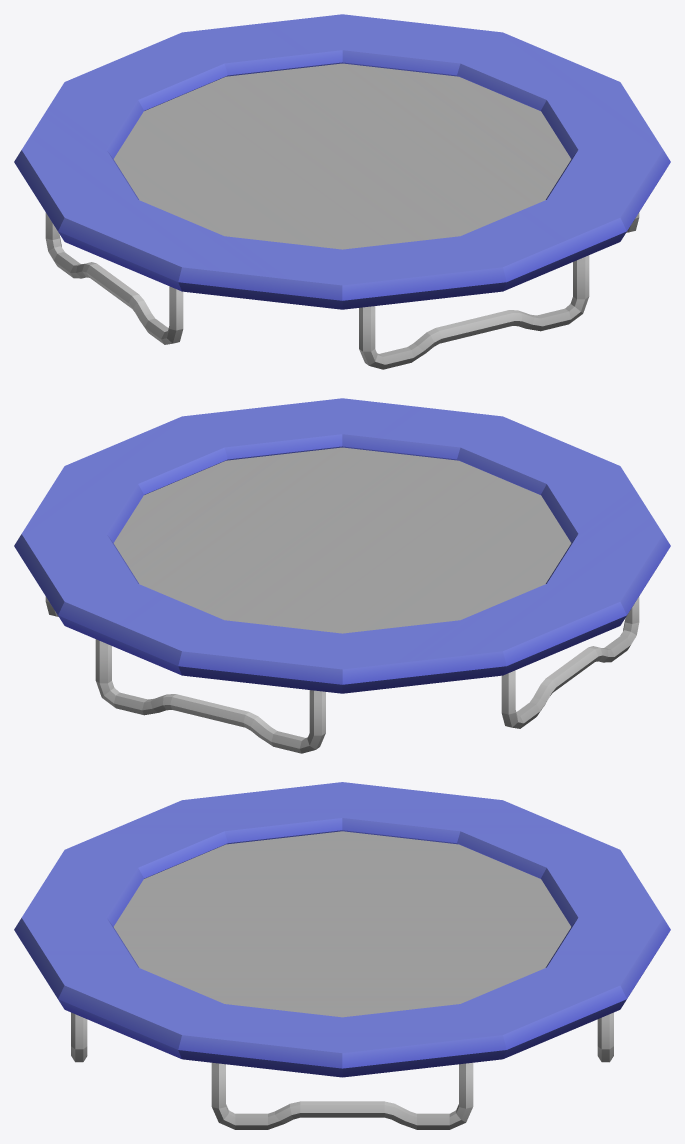
Rendered from trampolina.fbx.
The picture shows the model from 3 angles, top to bottom: view 1: azimuth 30°, elevation 25°; view 2: azimuth 150°, elevation 25°; view 3: azimuth 270°, elevation 25°; orthographic projection.
Parts seen in each view (by area): view 1: Circle; view 2: Circle; view 3: Circle.
Boxes of the visible parts, x1=… form: Circle: x1=14, y1=14, x2=670, y2=369; Circle: x1=14, y1=398, x2=670, y2=753; Circle: x1=14, y1=782, x2=670, y2=1129.
Bounding box in the file's own units: 193 × 32.28 × 193.
